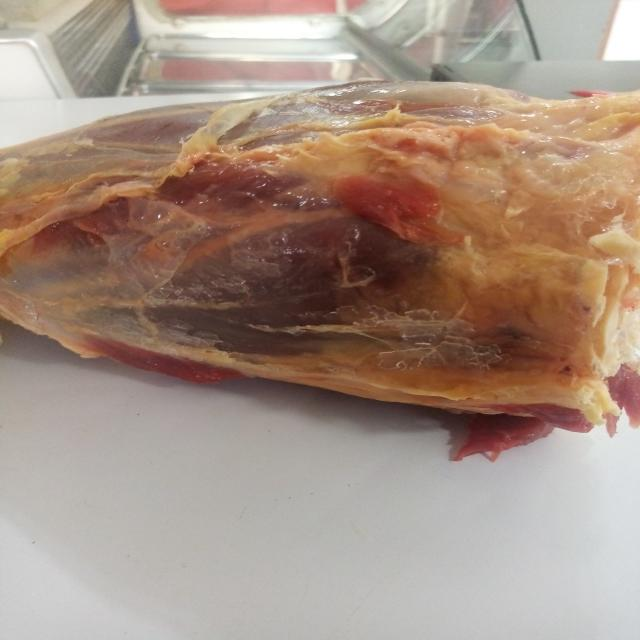beef: (9, 85, 640, 452)
